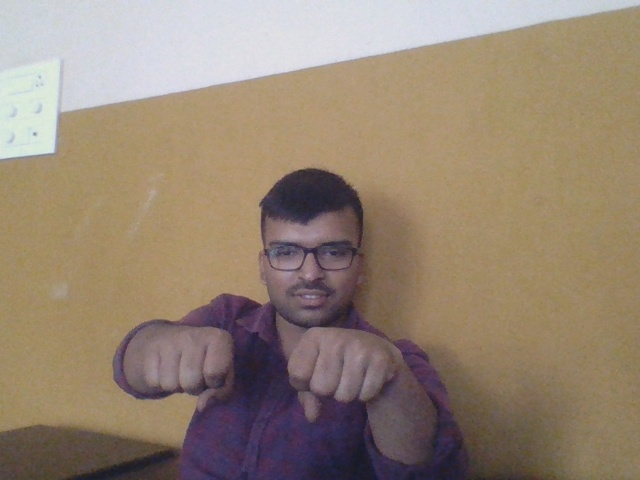Yes: (137, 313, 239, 419)
